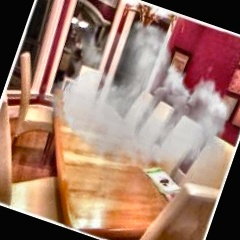smoke: (70, 49, 217, 164)
